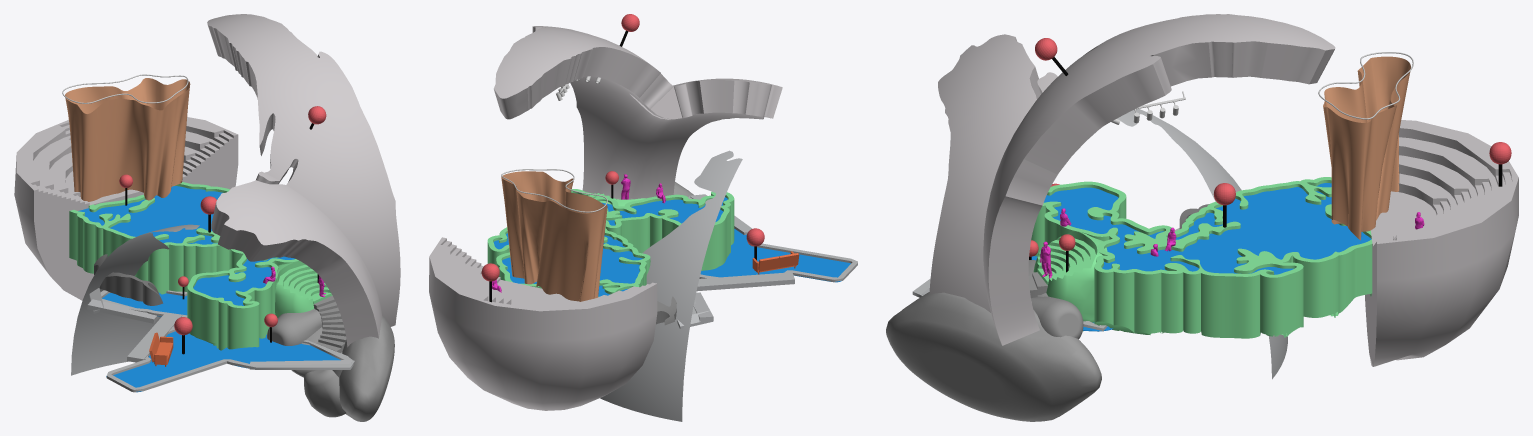
The model's file is building.glb.
The picture shows the model from 3 angles, left to right: view 1: azimuth 30°, elevation 25°; view 2: azimuth 150°, elevation 25°; view 3: azimuth 270°, elevation 25°; orthographic projection. The views are drawn at different scales.
Parts seen in each view (by area): view 1: object_629, object_592, object_1274, object_1256, object_596, object_591, object_781, object_204, object_811, object_1279, object_636, object_1257 (+5 smaller); view 2: object_1256, object_629, object_596, object_592, object_1274, object_591, object_781, Cube, object_1279, object_411, object_877, object_1257; view 3: object_629, object_1256, object_1274, object_811, object_591, object_592, object_636, object_596, object_204.
Boxes of the visible parts, box(x1,y1,x2,y2) form: object_629: box(207, 14, 400, 347); object_592: box(65, 78, 190, 201); object_1274: box(69, 182, 298, 350); object_1256: box(14, 117, 238, 300); object_596: box(71, 224, 199, 375); object_591: box(78, 186, 295, 305); object_781: box(102, 292, 340, 392); object_204: box(267, 296, 346, 417); object_811: box(339, 315, 394, 421); object_1279: box(100, 290, 354, 392); object_636: box(275, 260, 332, 317); object_1257: box(94, 254, 163, 305); object_1256: box(429, 237, 657, 410); object_629: box(493, 26, 782, 199); object_596: box(600, 150, 742, 421); object_592: box(501, 171, 607, 301); object_1274: box(487, 189, 734, 296); object_591: box(493, 197, 727, 296); object_781: box(700, 229, 850, 282); Cube: box(696, 272, 794, 291); object_1279: box(688, 194, 857, 314); object_411: box(752, 251, 799, 274); object_877: box(501, 169, 607, 212); object_1257: box(656, 296, 676, 325); object_629: box(929, 14, 1335, 345); object_1256: box(1365, 120, 1518, 366); object_1274: box(1031, 177, 1372, 338); object_811: box(886, 292, 1101, 421); object_591: box(1044, 183, 1371, 274); object_592: box(1323, 56, 1410, 240); object_636: box(1033, 231, 1107, 331); object_596: box(1117, 109, 1287, 379); object_204: box(1028, 260, 1083, 339).
Size of the model in its own units: 58.83 by 64.05 by 92.93.
